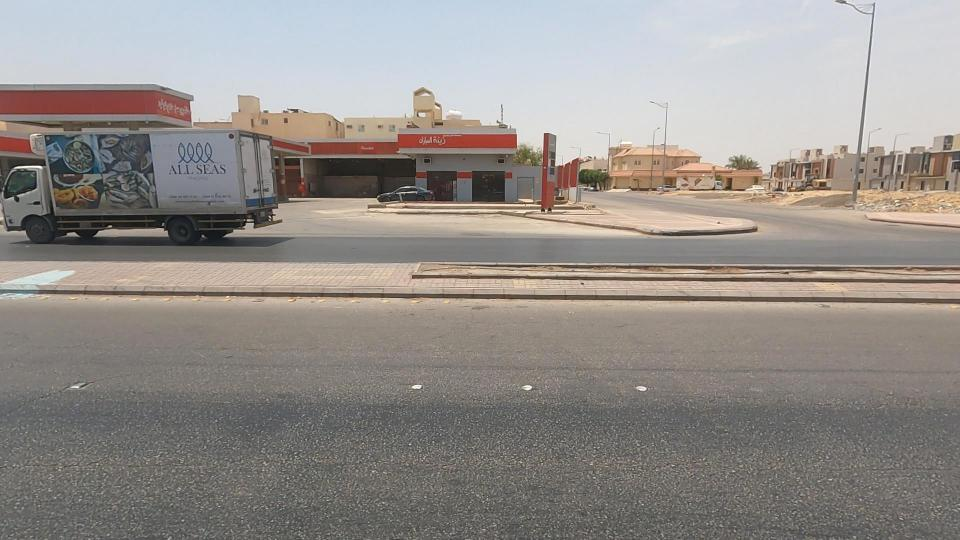CLUTTER_SIDEWALK: (345, 219, 724, 317), (599, 230, 942, 309)
